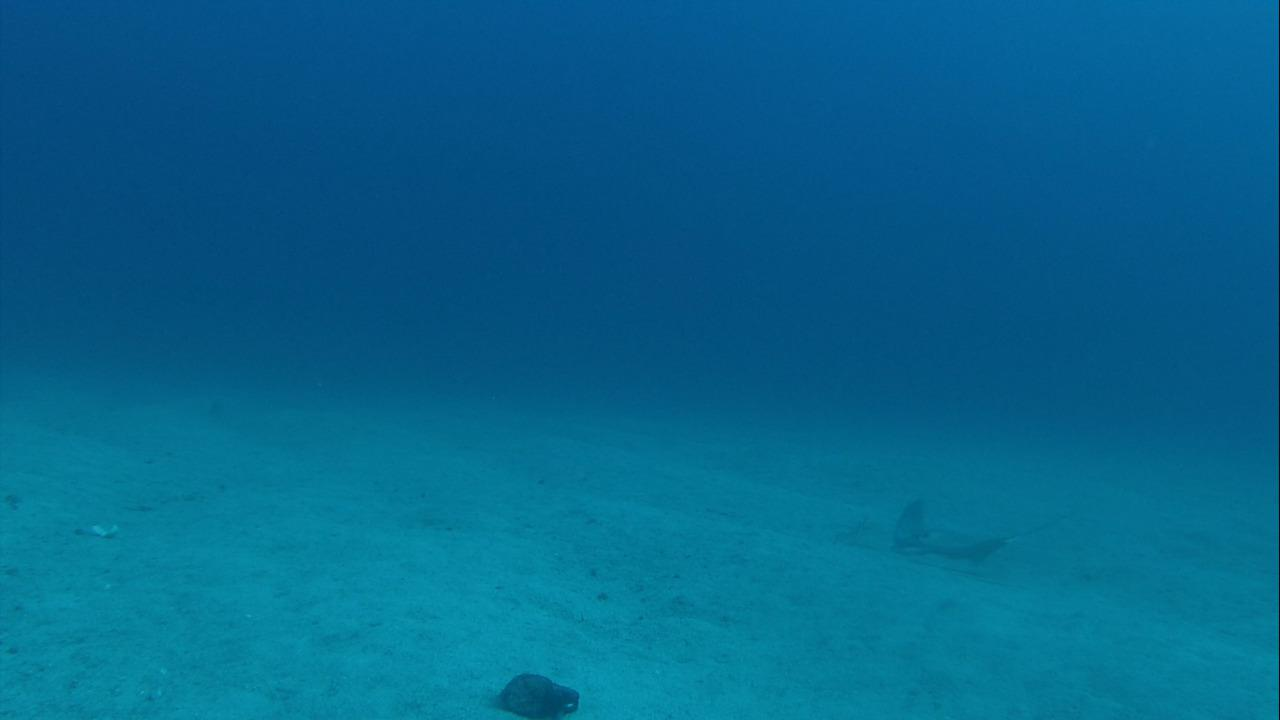myliobatis: (879, 492, 1094, 572)
